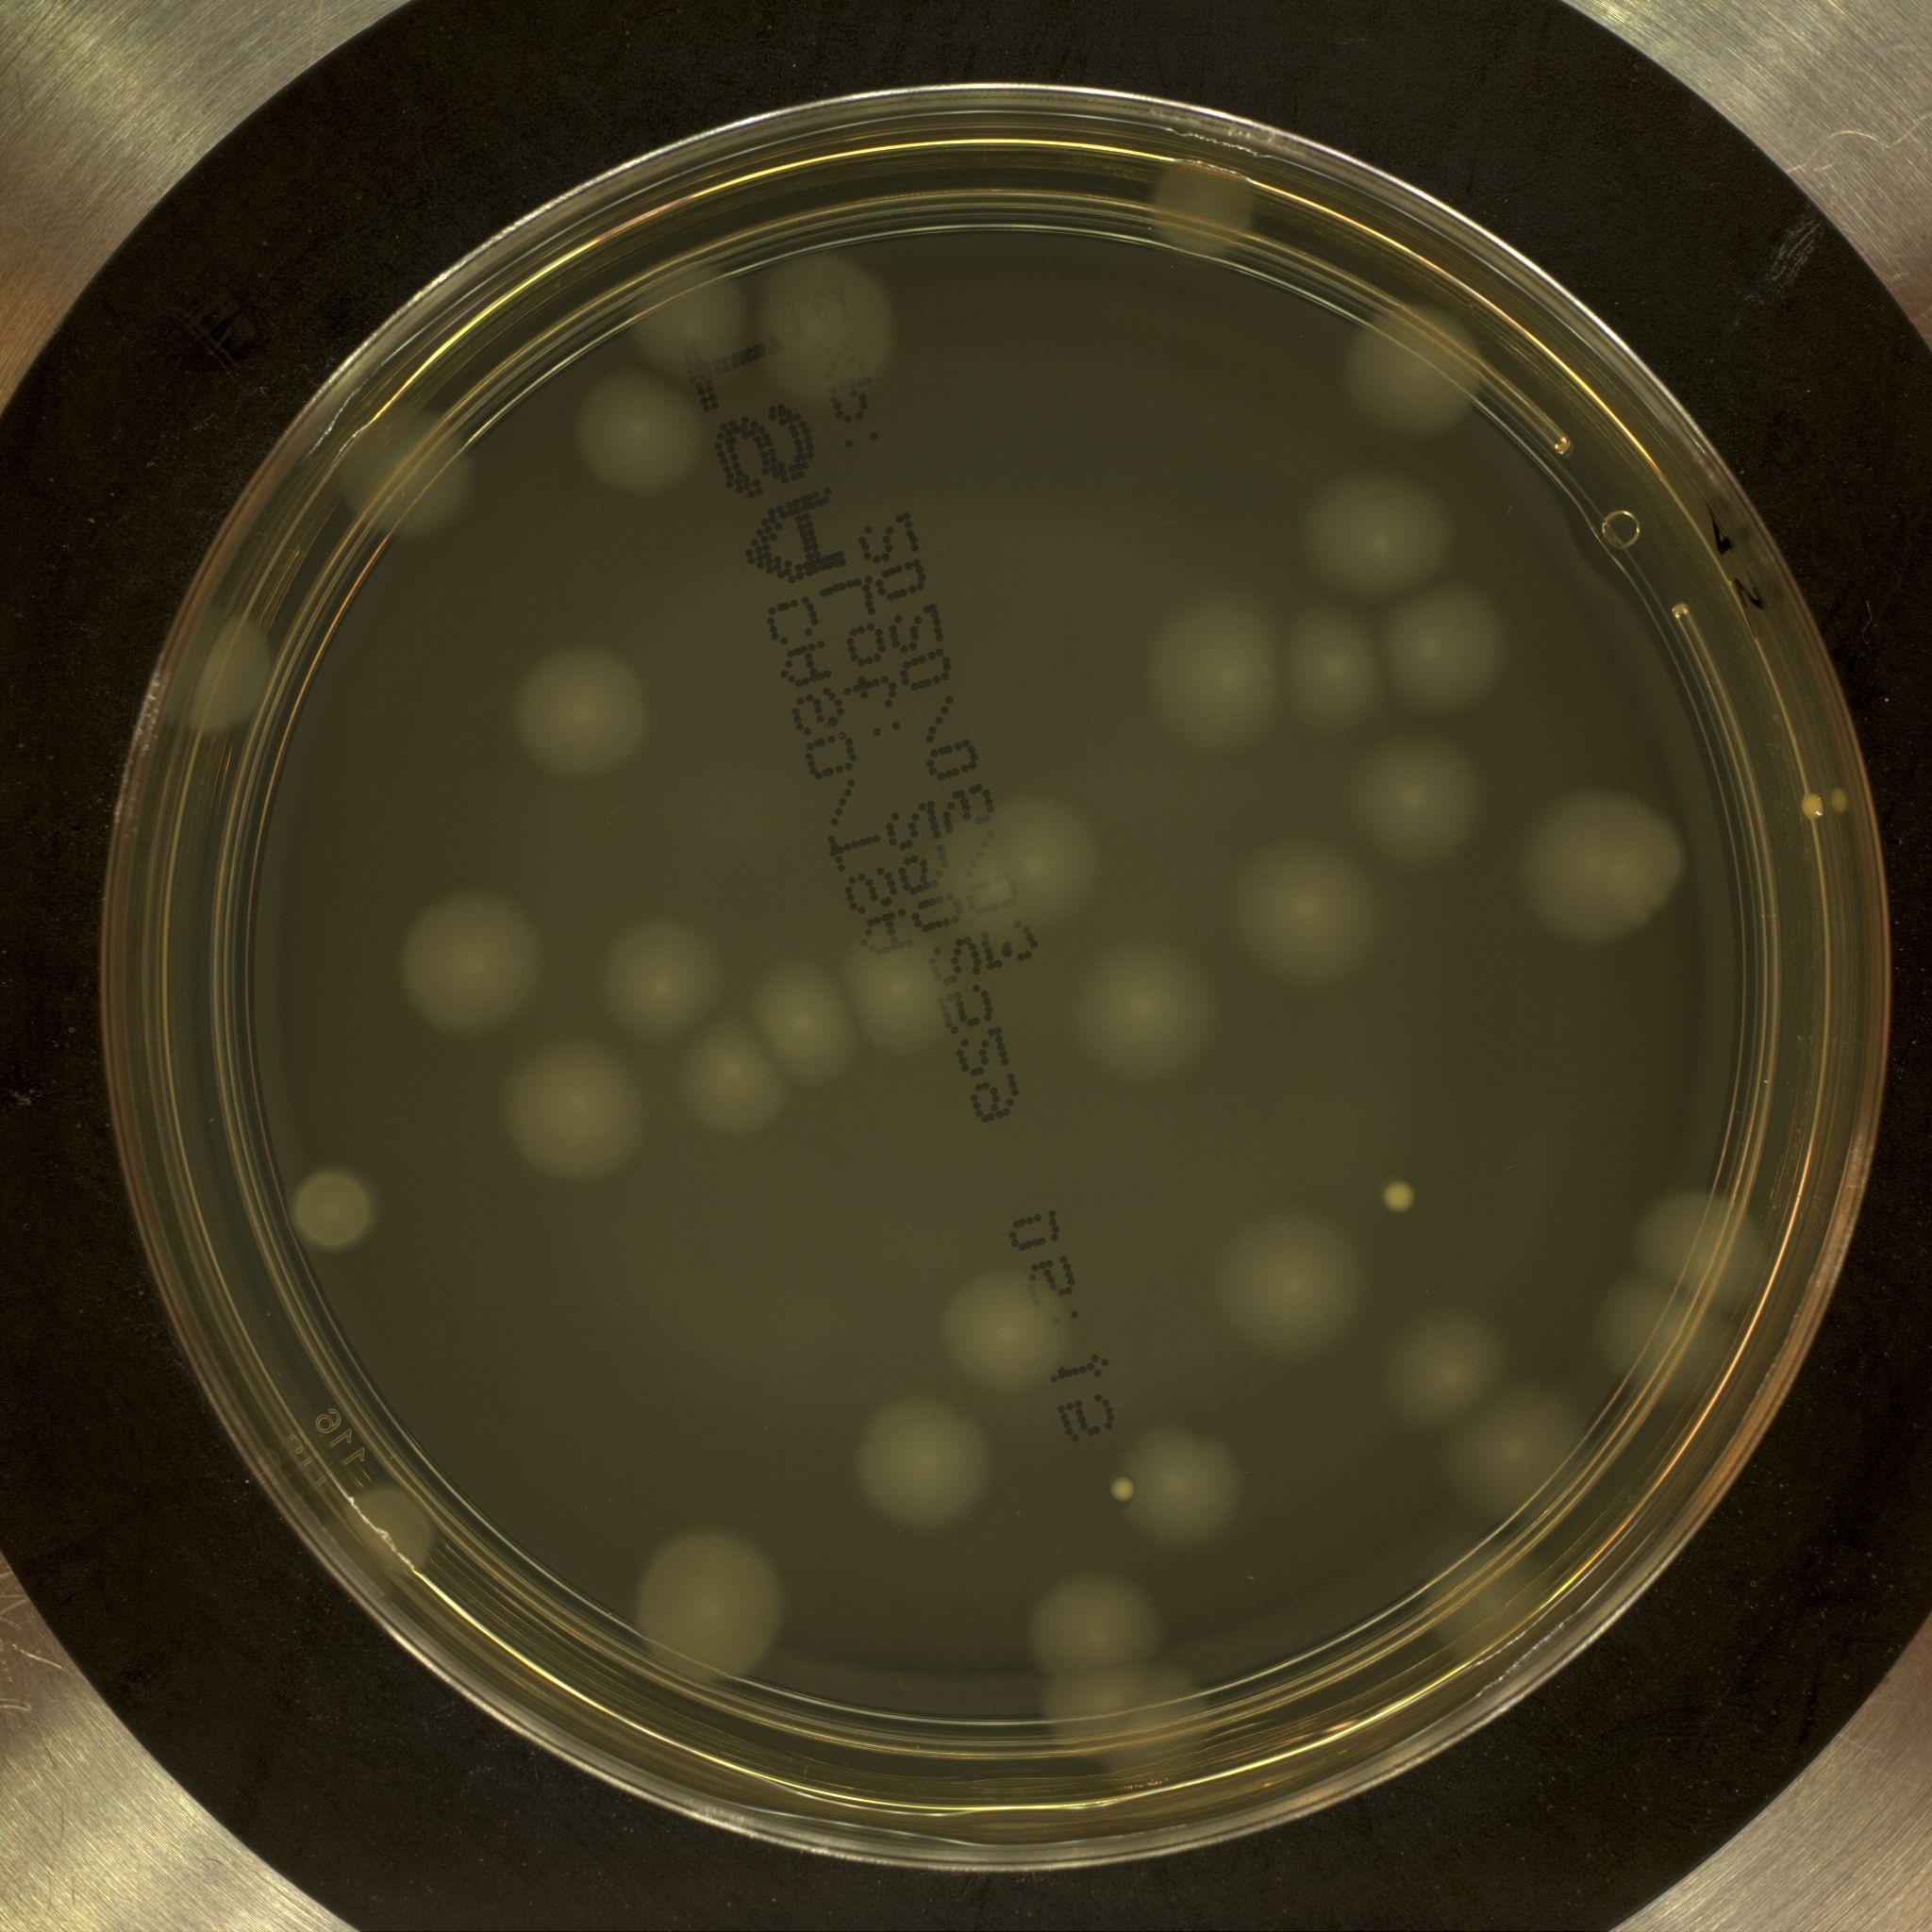e. coli: (492, 1028, 651, 1194), (633, 1523, 793, 1684), (941, 798, 1102, 954), (1131, 598, 1293, 741), (1240, 849, 1394, 1000), (1541, 796, 1686, 938), (1277, 598, 1407, 755), (1067, 939, 1215, 1076), (341, 373, 474, 524), (1223, 1217, 1378, 1345), (517, 637, 662, 773), (403, 897, 548, 1028), (856, 1405, 1005, 1529), (1352, 315, 1495, 441), (577, 368, 715, 497), (1373, 1297, 1491, 1444), (1072, 1663, 1224, 1776), (939, 1260, 1062, 1396), (1645, 1169, 1780, 1292), (833, 931, 966, 1053), (768, 251, 901, 372), (1123, 1424, 1256, 1543), (1460, 1403, 1582, 1529), (1325, 469, 1454, 587), (1596, 1277, 1732, 1384), (1362, 745, 1483, 862), (633, 258, 761, 368), (678, 1023, 794, 1141), (1387, 594, 1511, 704), (1145, 149, 1272, 255), (1030, 1575, 1171, 1665), (763, 954, 865, 1076), (621, 922, 724, 1031), (280, 1169, 379, 1254)
